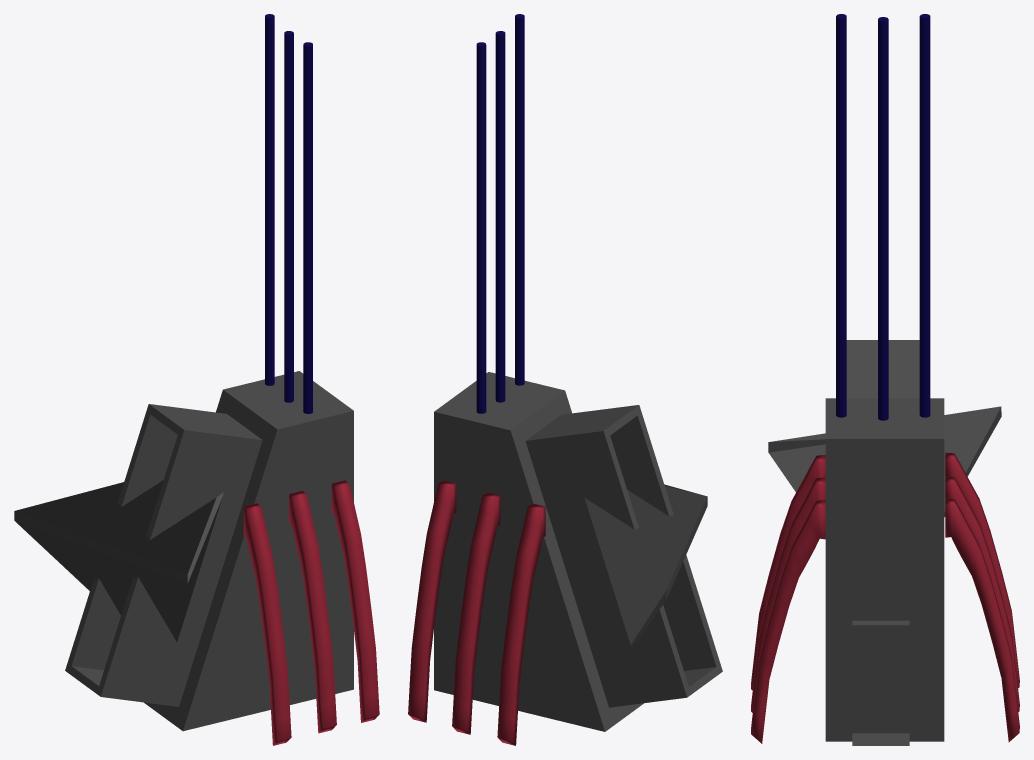
Rendered from stronghold.fbx.
3 views of the same model, side by side, from view 1: azimuth 30°, elevation 25°; view 2: azimuth 150°, elevation 25°; view 3: azimuth 270°, elevation 25° (orthographic). The views are drawn at different scales.
Parts seen in each view (by area): view 1: Cube, Cube.002, Cube.003, Cube.001, Cylinder, Cylinder.001, Cylinder.002; view 2: Cube, Cube.004, Cube.005, Cube.006, Cylinder.001, Cylinder.002, Cylinder; view 3: Cube, Cylinder.002, Cylinder, Cylinder.001, Cube.004, Cube.002, Cube.006, Cube.001, Cube.003, Cube.005.
Part boxes in pixels (x1,y1,x2,y2): Cube: [14, 371, 353, 731]; Cube.002: [331, 480, 379, 722]; Cube.003: [243, 503, 291, 745]; Cube.001: [289, 490, 336, 733]; Cylinder: [303, 42, 312, 413]; Cylinder.001: [284, 31, 293, 402]; Cylinder.002: [265, 14, 274, 385]; Cube: [434, 372, 722, 731]; Cube.004: [408, 480, 456, 722]; Cube.005: [452, 492, 500, 734]; Cube.006: [497, 503, 545, 745]; Cylinder.001: [495, 31, 505, 402]; Cylinder.002: [476, 42, 486, 413]; Cylinder: [515, 14, 524, 385]; Cube: [768, 340, 1001, 745]; Cylinder.002: [919, 14, 930, 417]; Cylinder: [836, 14, 846, 417]; Cylinder.001: [878, 17, 888, 420]; Cube.004: [945, 498, 1019, 742]; Cube.002: [751, 500, 825, 743]; Cube.006: [945, 452, 1019, 688]; Cube.001: [751, 477, 825, 712]; Cube.003: [751, 455, 825, 690]; Cube.005: [945, 476, 1019, 711].
Size of the model in its own units: 565 by 1328 by 453.
